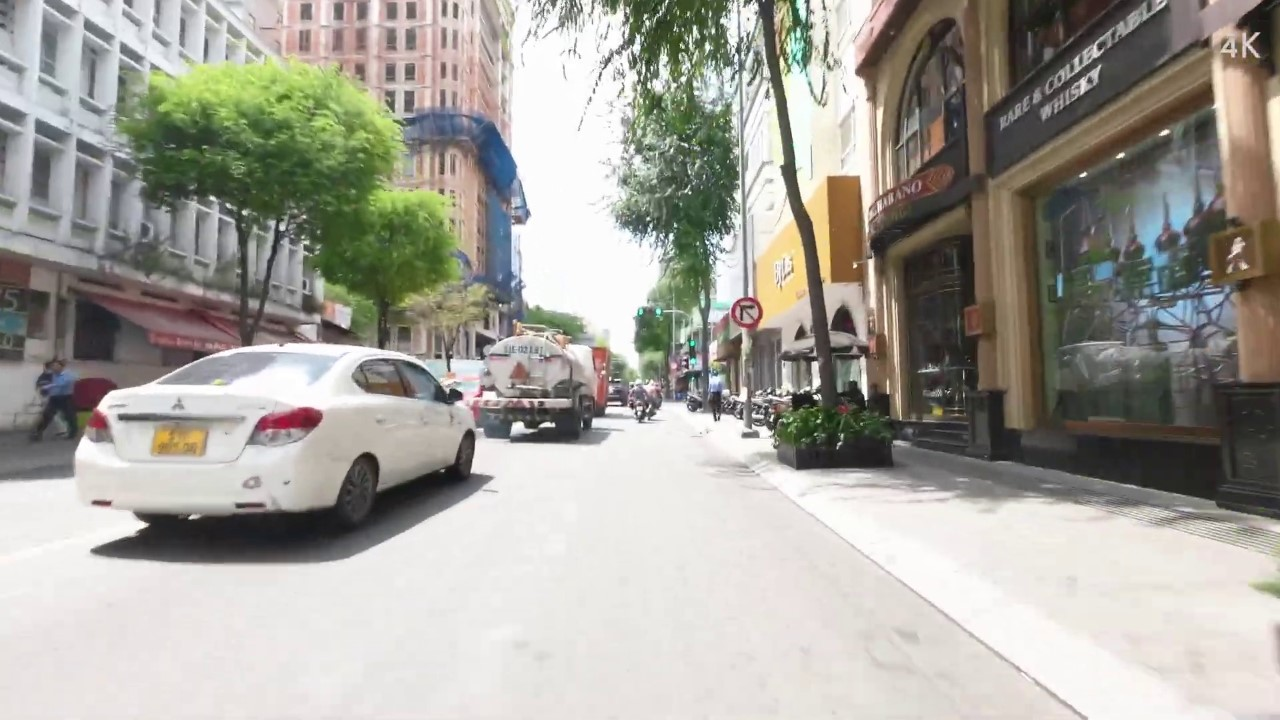cam_re_phai: (730, 296, 764, 328)
